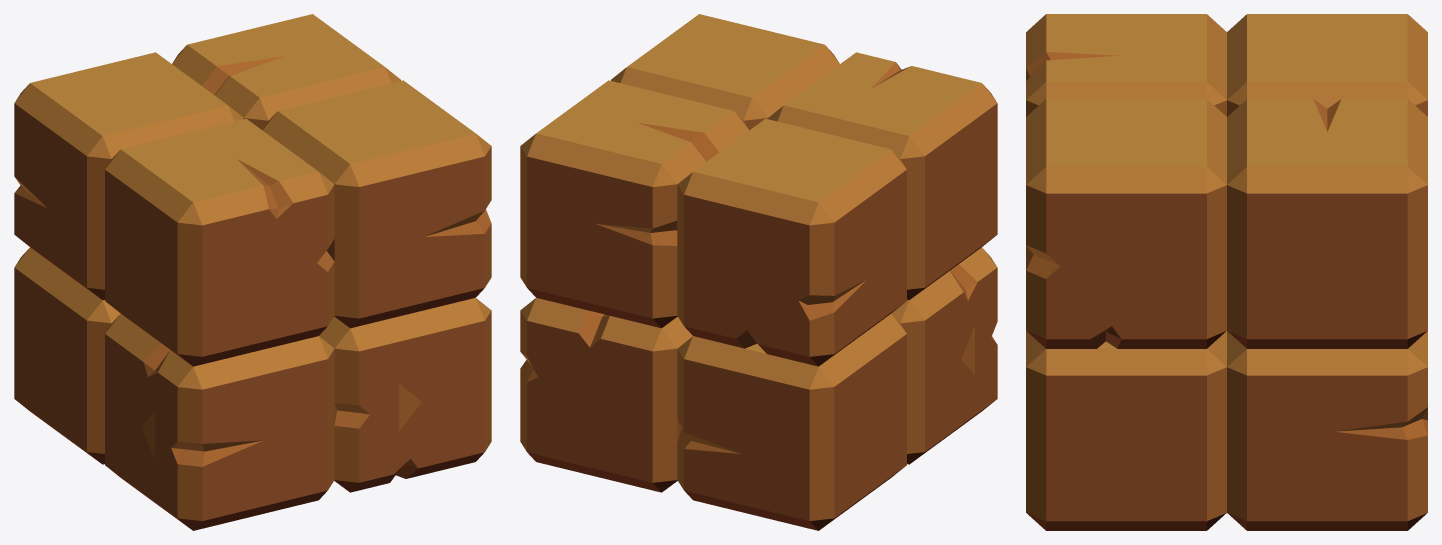
Rendered from m_kub_wood_miniCubePile.FBX.
3 renders of one model, left to right at view 1: azimuth 30°, elevation 25°; view 2: azimuth 150°, elevation 25°; view 3: azimuth 270°, elevation 25°, orthographic. The views are drawn at different scales.
Parts seen in each view (by area): view 1: m_kub_wood_miniCubePile; view 2: m_kub_wood_miniCubePile; view 3: m_kub_wood_miniCubePile.
Part boxes in pixels (x1,y1,x2,y2): m_kub_wood_miniCubePile: [14, 14, 491, 530]; m_kub_wood_miniCubePile: [520, 14, 997, 530]; m_kub_wood_miniCubePile: [1026, 14, 1427, 530].
Size of the model in its own units: 2 by 2 by 2.
